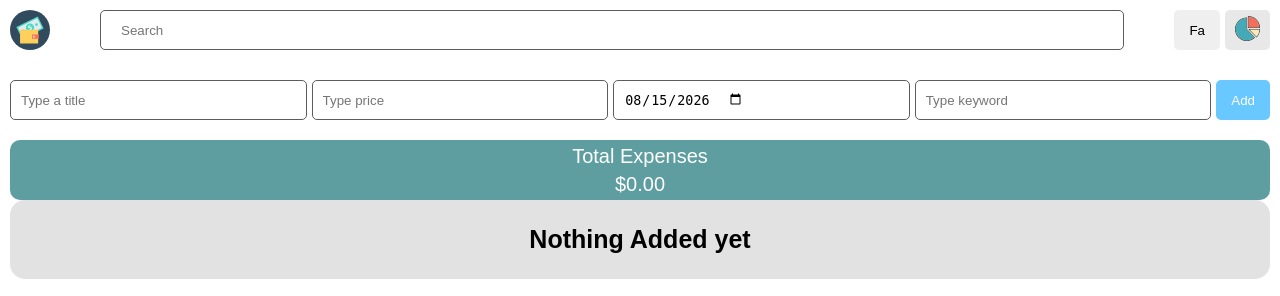
it: Testing HomePage component › changes the language with Fa button
The width and height of the screenshot is (1280, 296).
Click the button with test id "btn-language" at [1197, 30], box [1174,10,1220,50]
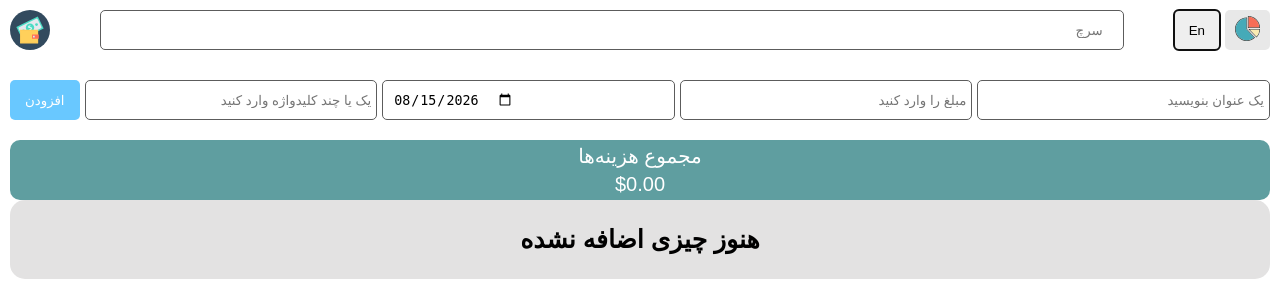
Result: the text "هنوز چیزی اضافه نشده" is shown at [520,225,760,253]
Result: the button "افزودن" is shown at [10,80,80,120]
